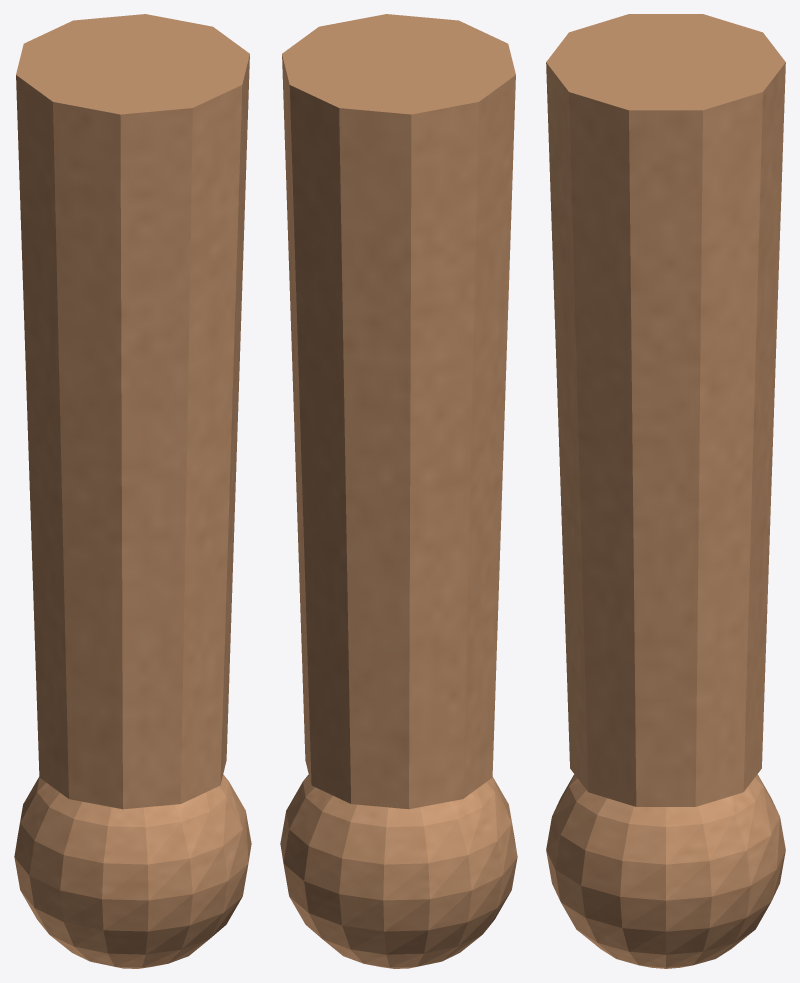
File: JugB_Antebrazo.obj
3 renders of one model, left to right at view 1: azimuth 30°, elevation 25°; view 2: azimuth 150°, elevation 25°; view 3: azimuth 270°, elevation 25°, orthographic.
Bounding box in the file's own units: 0.08 × 0.33 × 0.08.
Materials: 1 (1 with a texture image).
